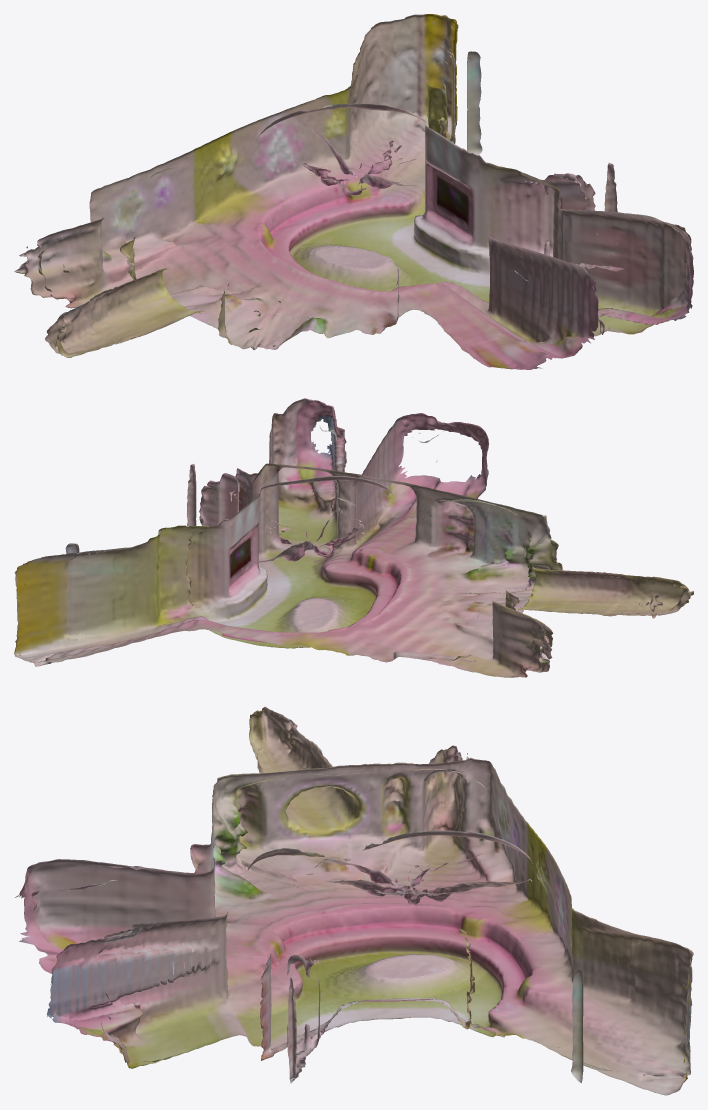
Rendered from blooming-frutiger-1-1-pano_collider.glb.
The picture shows the model from 3 angles, top to bottom: view 1: azimuth 30°, elevation 25°; view 2: azimuth 150°, elevation 25°; view 3: azimuth 270°, elevation 25°; orthographic projection. The views are drawn at different scales.
Visible parts, largest first — view 1: world; view 2: world; view 3: world.
Boxes of the visible parts, box(x1,y1,x2,y2) form: world: box(14, 14, 693, 369); world: box(14, 398, 693, 677); world: box(15, 706, 693, 1095).
Size of the model in its own units: 16.66 by 3.14 by 15.62.
